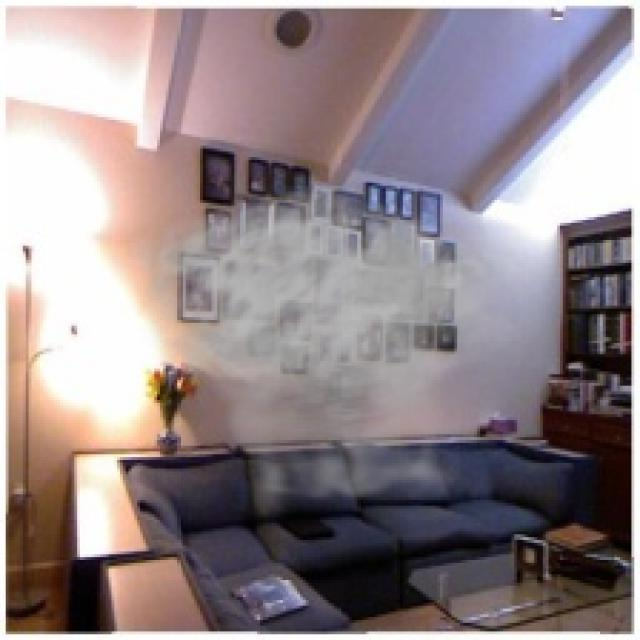Smoke: (126, 183, 532, 532)
